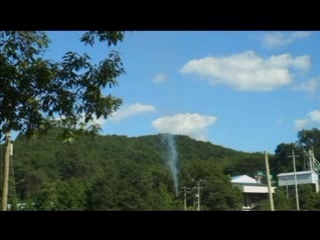smoke: (160, 135, 184, 199)
